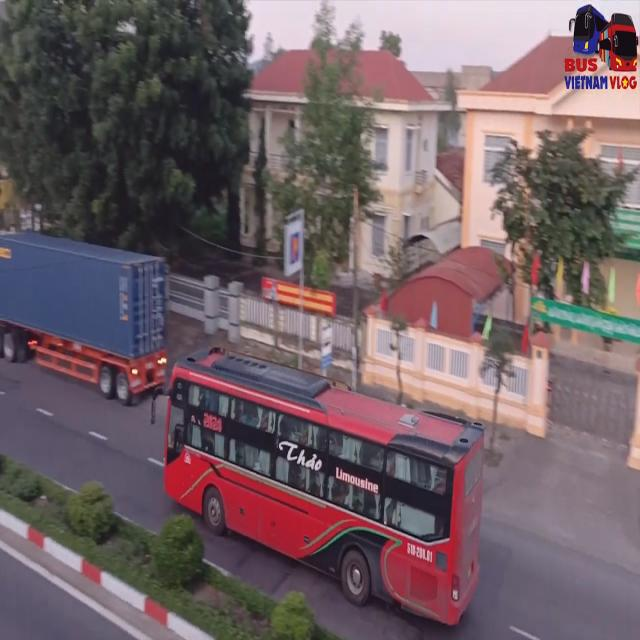bus: (156, 357, 482, 630)
truck: (0, 227, 164, 409)
